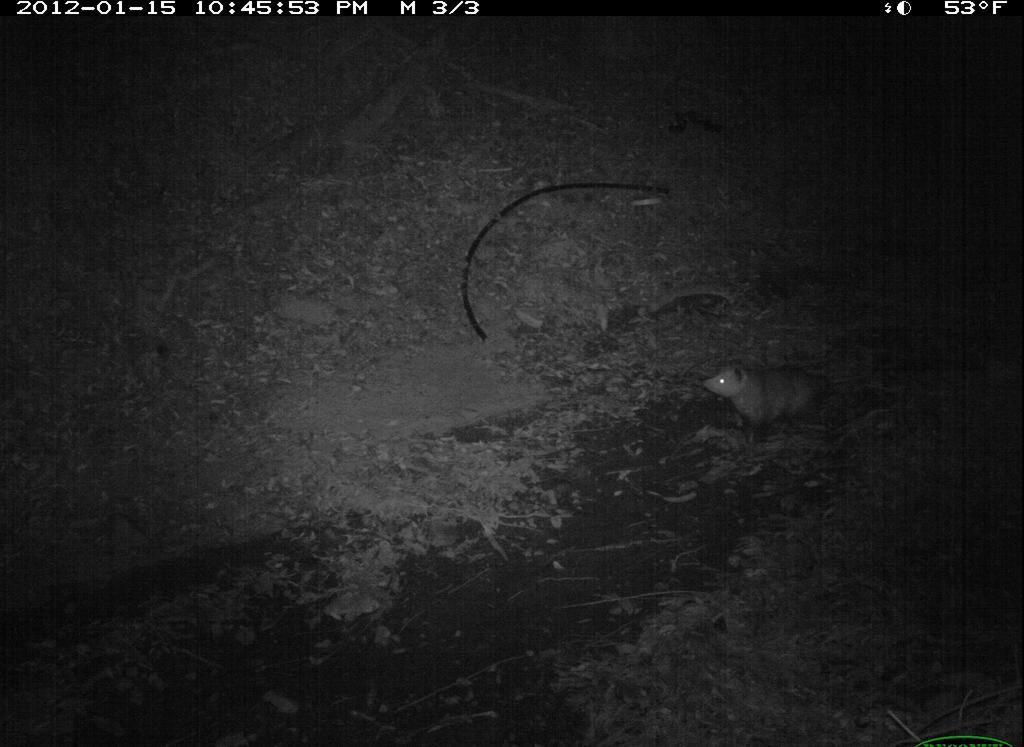opossum: (693, 347, 884, 451)
